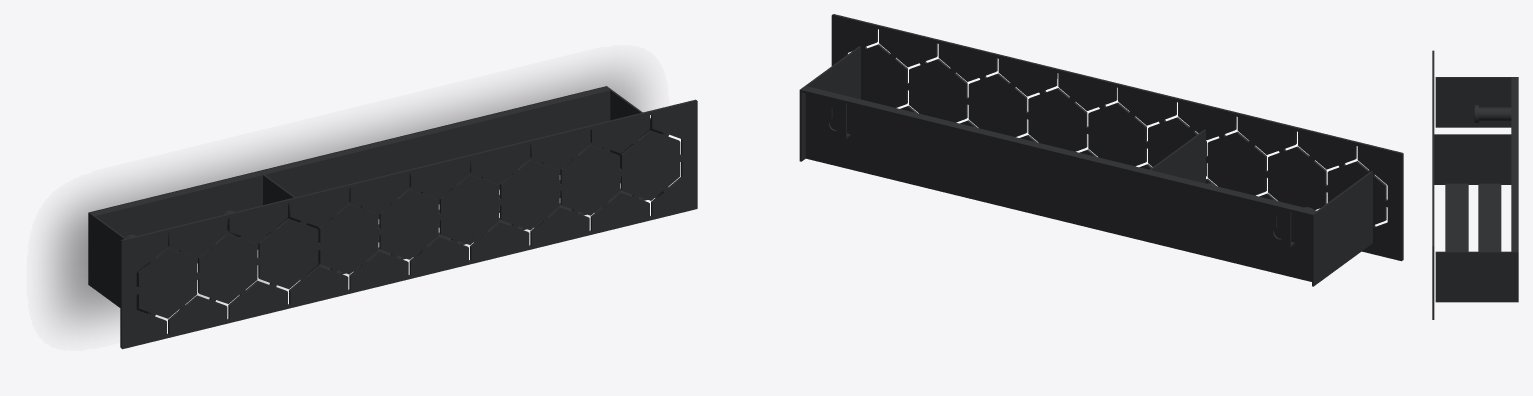
The model's file is bee-patron.c44820a651.ar.glb.
The picture shows the model from 3 angles, left to right: view 1: azimuth 30°, elevation 25°; view 2: azimuth 150°, elevation 25°; view 3: azimuth 270°, elevation 25°; orthographic projection. The views are drawn at different scales.
Parts seen in each view (by area): view 1: NAUO1, object 2; view 2: NAUO1; view 3: NAUO1.
Boxes of the visible parts, bbox=[...] form: NAUO1: bbox=[88, 86, 697, 349]; object 2: bbox=[49, 70, 646, 325]; NAUO1: bbox=[799, 14, 1403, 286]; NAUO1: bbox=[1432, 50, 1518, 319].
Bounding box in the file's own units: 0.58 × 0.17 × 0.0935.
Materials: 2 (1 with a texture image).
